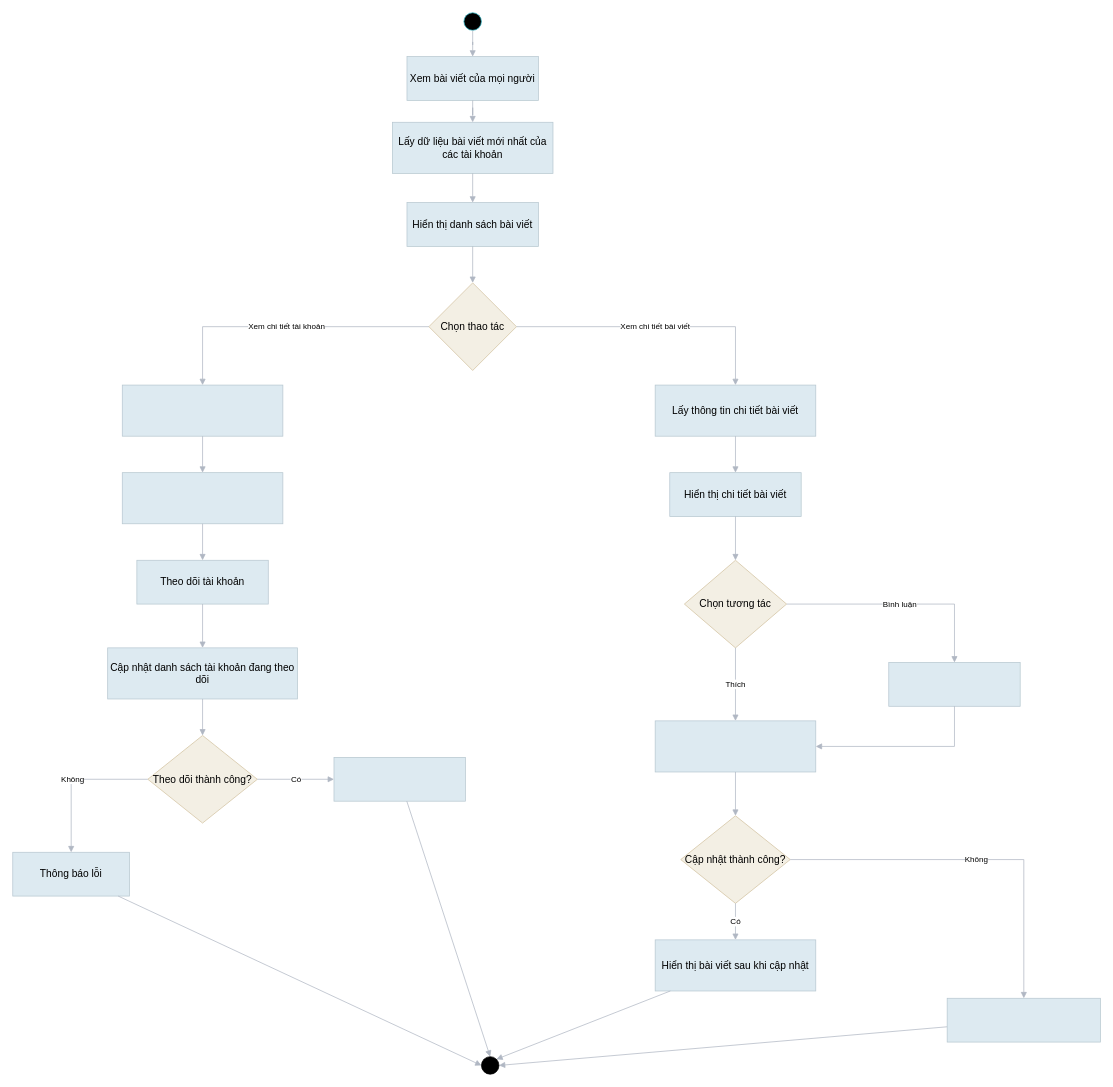
Some shapes in this 1113 by 1087 pixel diagram are drawn without their labels. Each missing label, with the box of its shape:
Cập nhật bài viết: (654, 720, 816, 772)
Hiển thị trang tài khoản cá nhân: (122, 472, 283, 524)
Hiển thị ô bình luận: (888, 662, 1020, 706)
Lấy thông tin chi tiết tài khoản: (122, 384, 283, 436)
Thông báo không thành công: (946, 998, 1100, 1042)
Thông báo đã theo dõi: (333, 757, 465, 801)
